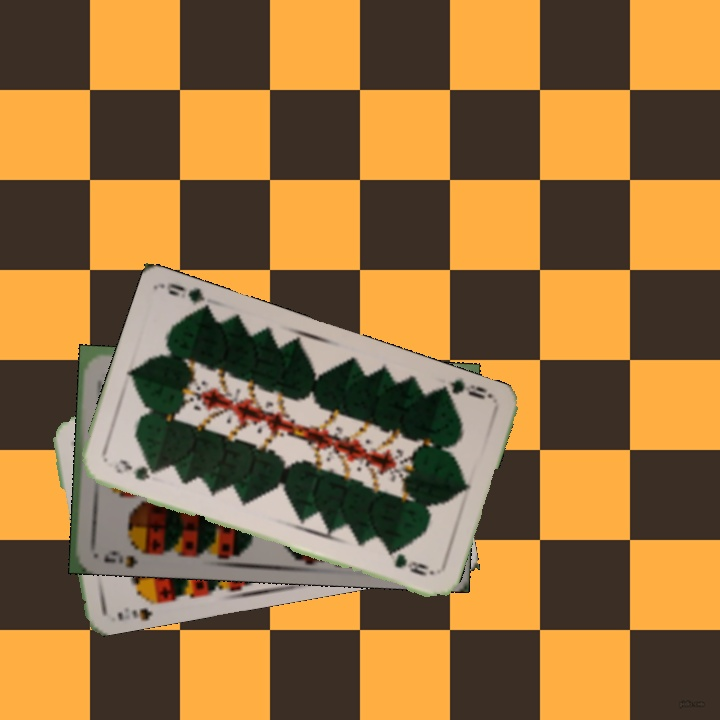G9: (434, 375, 495, 402), (110, 456, 159, 483)
S9: (113, 591, 164, 623), (100, 540, 154, 568)
